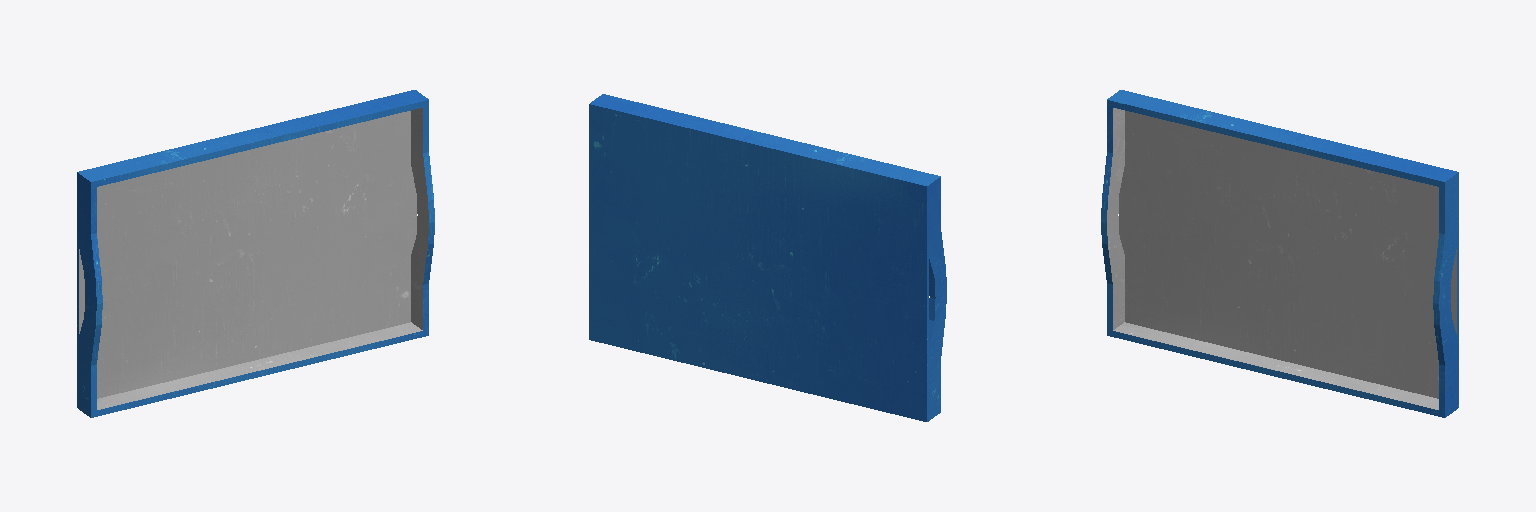
3 renders of one model, left to right at view 1: azimuth 30°, elevation 25°; view 2: azimuth 150°, elevation 25°; view 3: azimuth 330°, elevation 25°, orthographic.
Size of the model in its own units: 1 by 0.6667 by 0.1011.
1 materials, 1 textured.